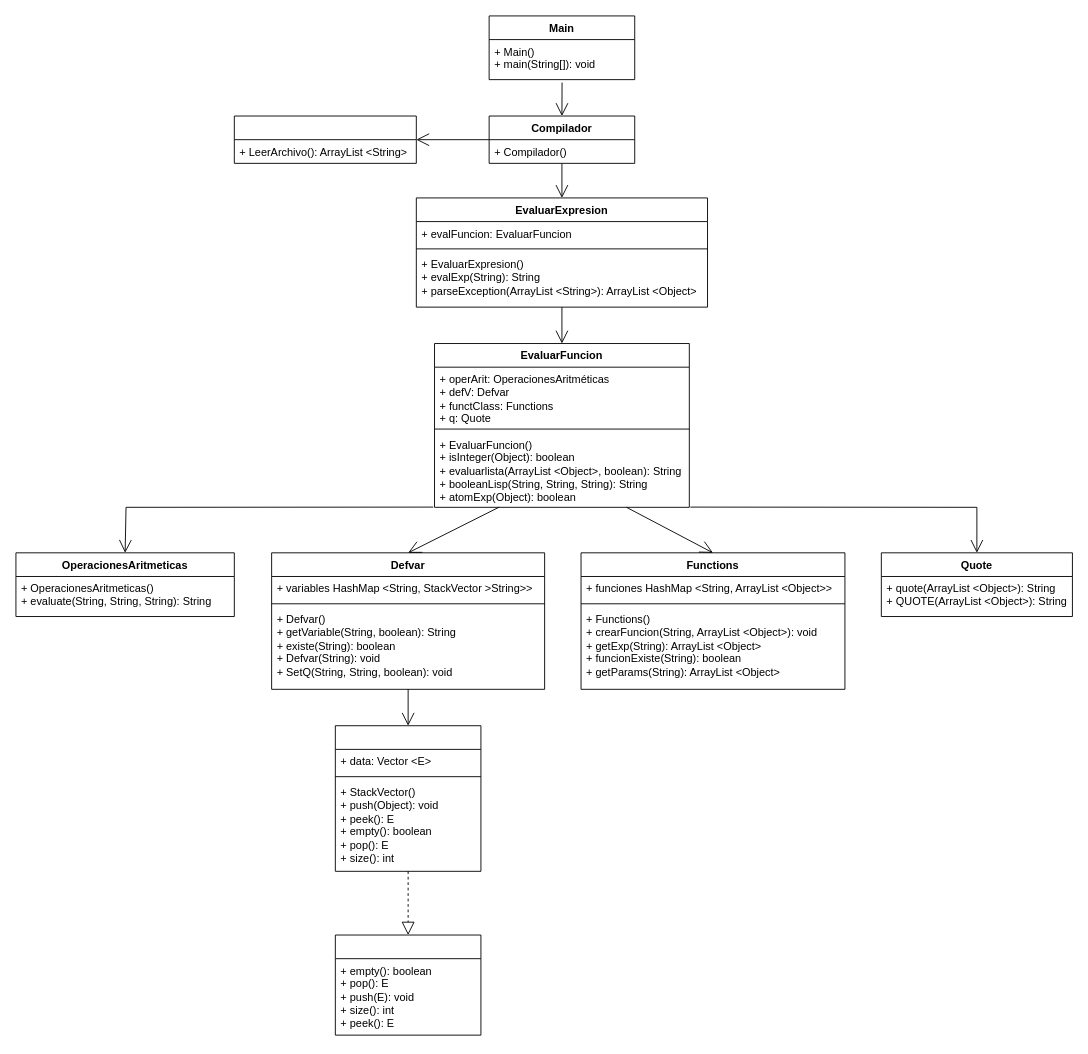
Some shapes in this 1088 by 1054 pixel diagram are drawn without their labels. The box of each missing label's shape, as (x1, y1, x2, y2) in pixels:
<< IStack <E> >>: (334, 934, 481, 1035)
LectorArchivo: (233, 115, 416, 163)
StackVector <E>: (334, 725, 481, 871)
